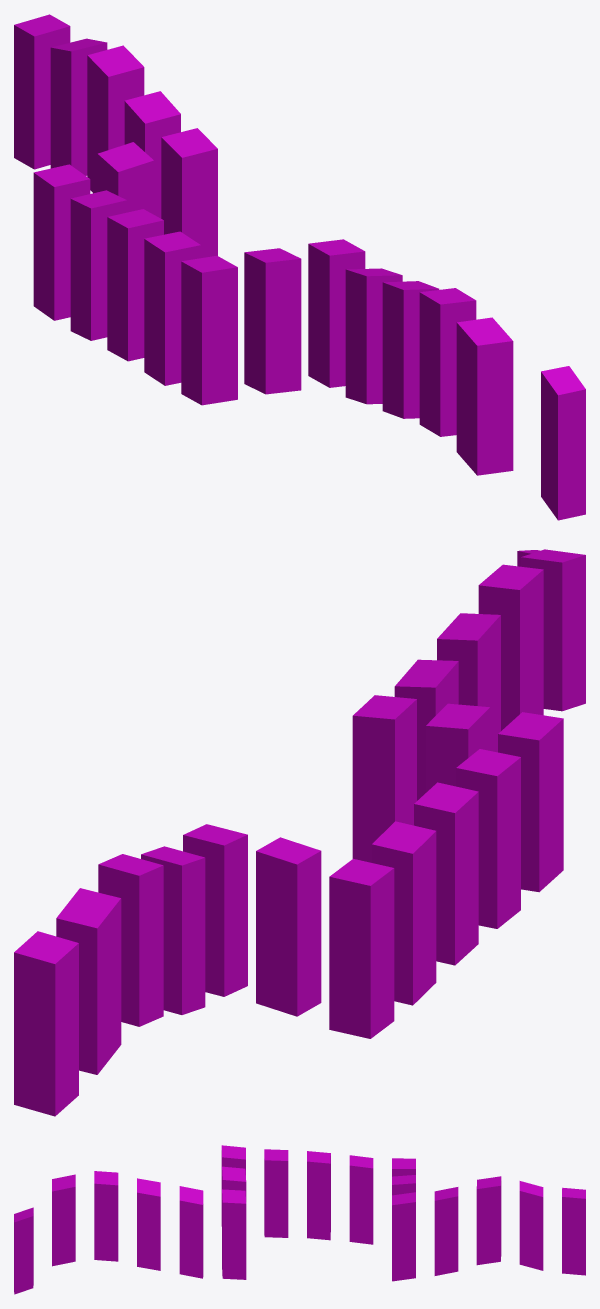
Rendered from M09_Z01_TeethBlock04.glb.
3 renders of one model, top to bottom at view 1: azimuth 30°, elevation 25°; view 2: azimuth 150°, elevation 25°; view 3: azimuth 270°, elevation 25°, orthographic. The views are drawn at different scales.
Parts seen in each view (by area): view 1: M09_Z01_TEETHBLOCK04; view 2: M09_Z01_TEETHBLOCK04; view 3: M09_Z01_TEETHBLOCK04.
Part boxes in pixels (<box>): M09_Z01_TEETHBLOCK04: <box>14,14,585,520</box>; M09_Z01_TEETHBLOCK04: <box>14,549,585,1116</box>; M09_Z01_TEETHBLOCK04: <box>14,1145,585,1294</box>.
Size of the model in its own units: 12.77 by 10.62 by 53.81.
